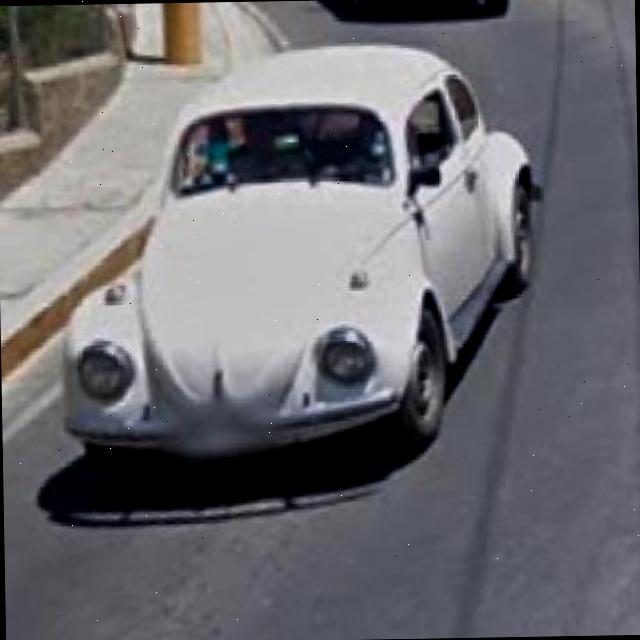car: (61, 46, 544, 458)
